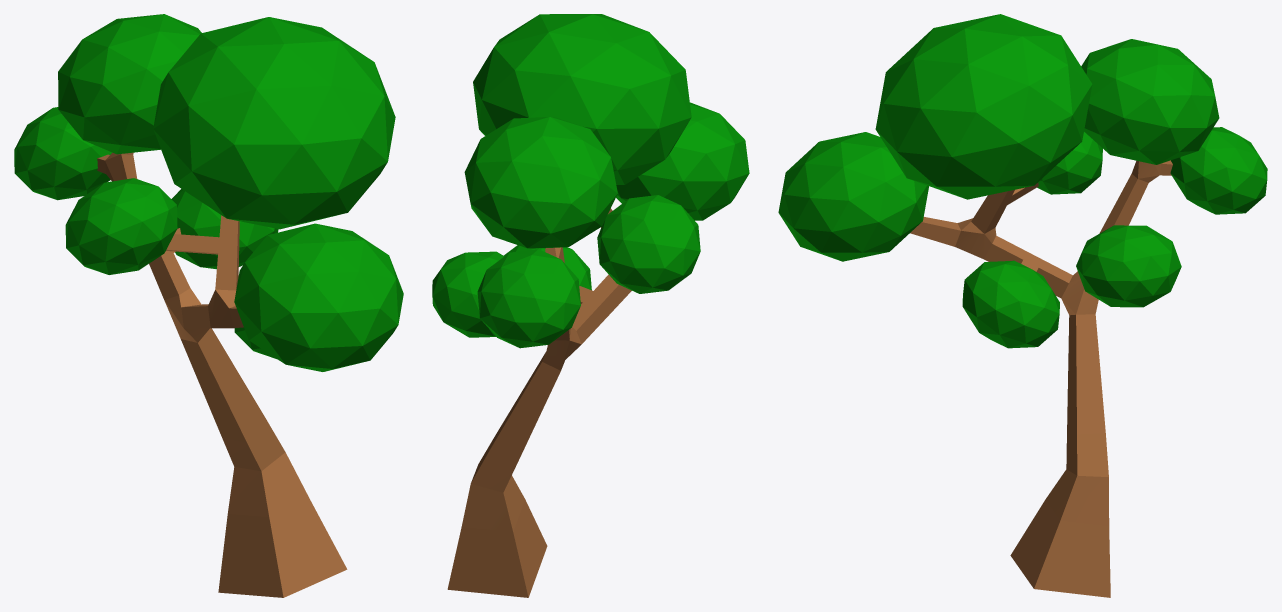
The model's file is variant_5.glb.
3 renders of one model, left to right at view 1: azimuth 30°, elevation 25°; view 2: azimuth 150°, elevation 25°; view 3: azimuth 270°, elevation 25°, orthographic. The views are drawn at different scales.
Visible parts, largest first — view 1: Icosphere.006; view 2: Icosphere.006; view 3: Icosphere.006.
Part boxes in pixels (box(x1,y1,x2,y2)): Icosphere.006: box(14, 14, 403, 597); Icosphere.006: box(432, 14, 749, 597); Icosphere.006: box(778, 14, 1267, 597).
Bounding box in the file's own units: 0.3503 × 0.7526 × 0.6241.
